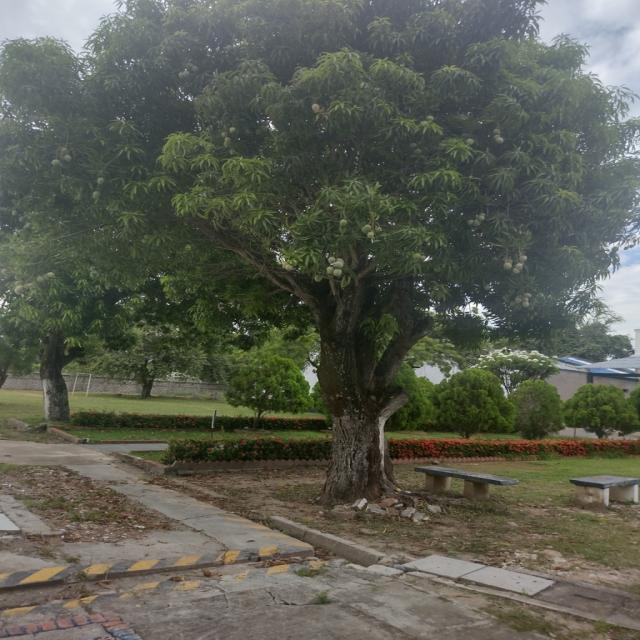Mango-Tree: (17, 5, 631, 491)
